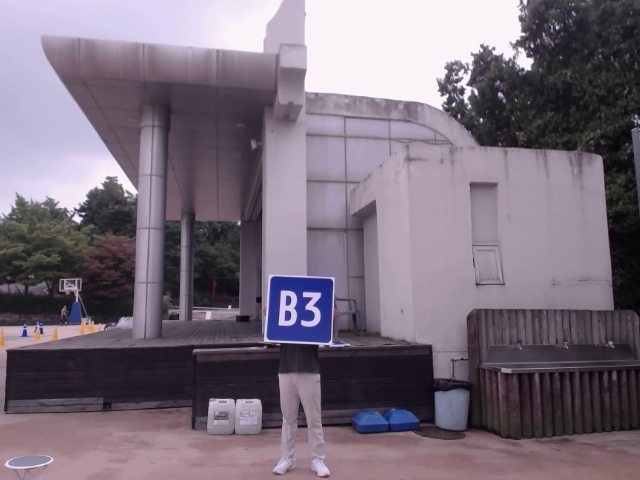delivery_b3: (267, 276, 331, 343)
